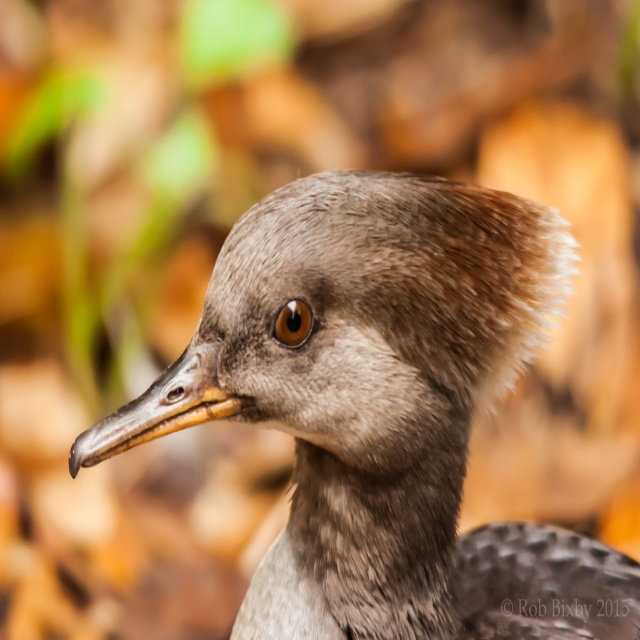Duck: (48, 143, 604, 640)
